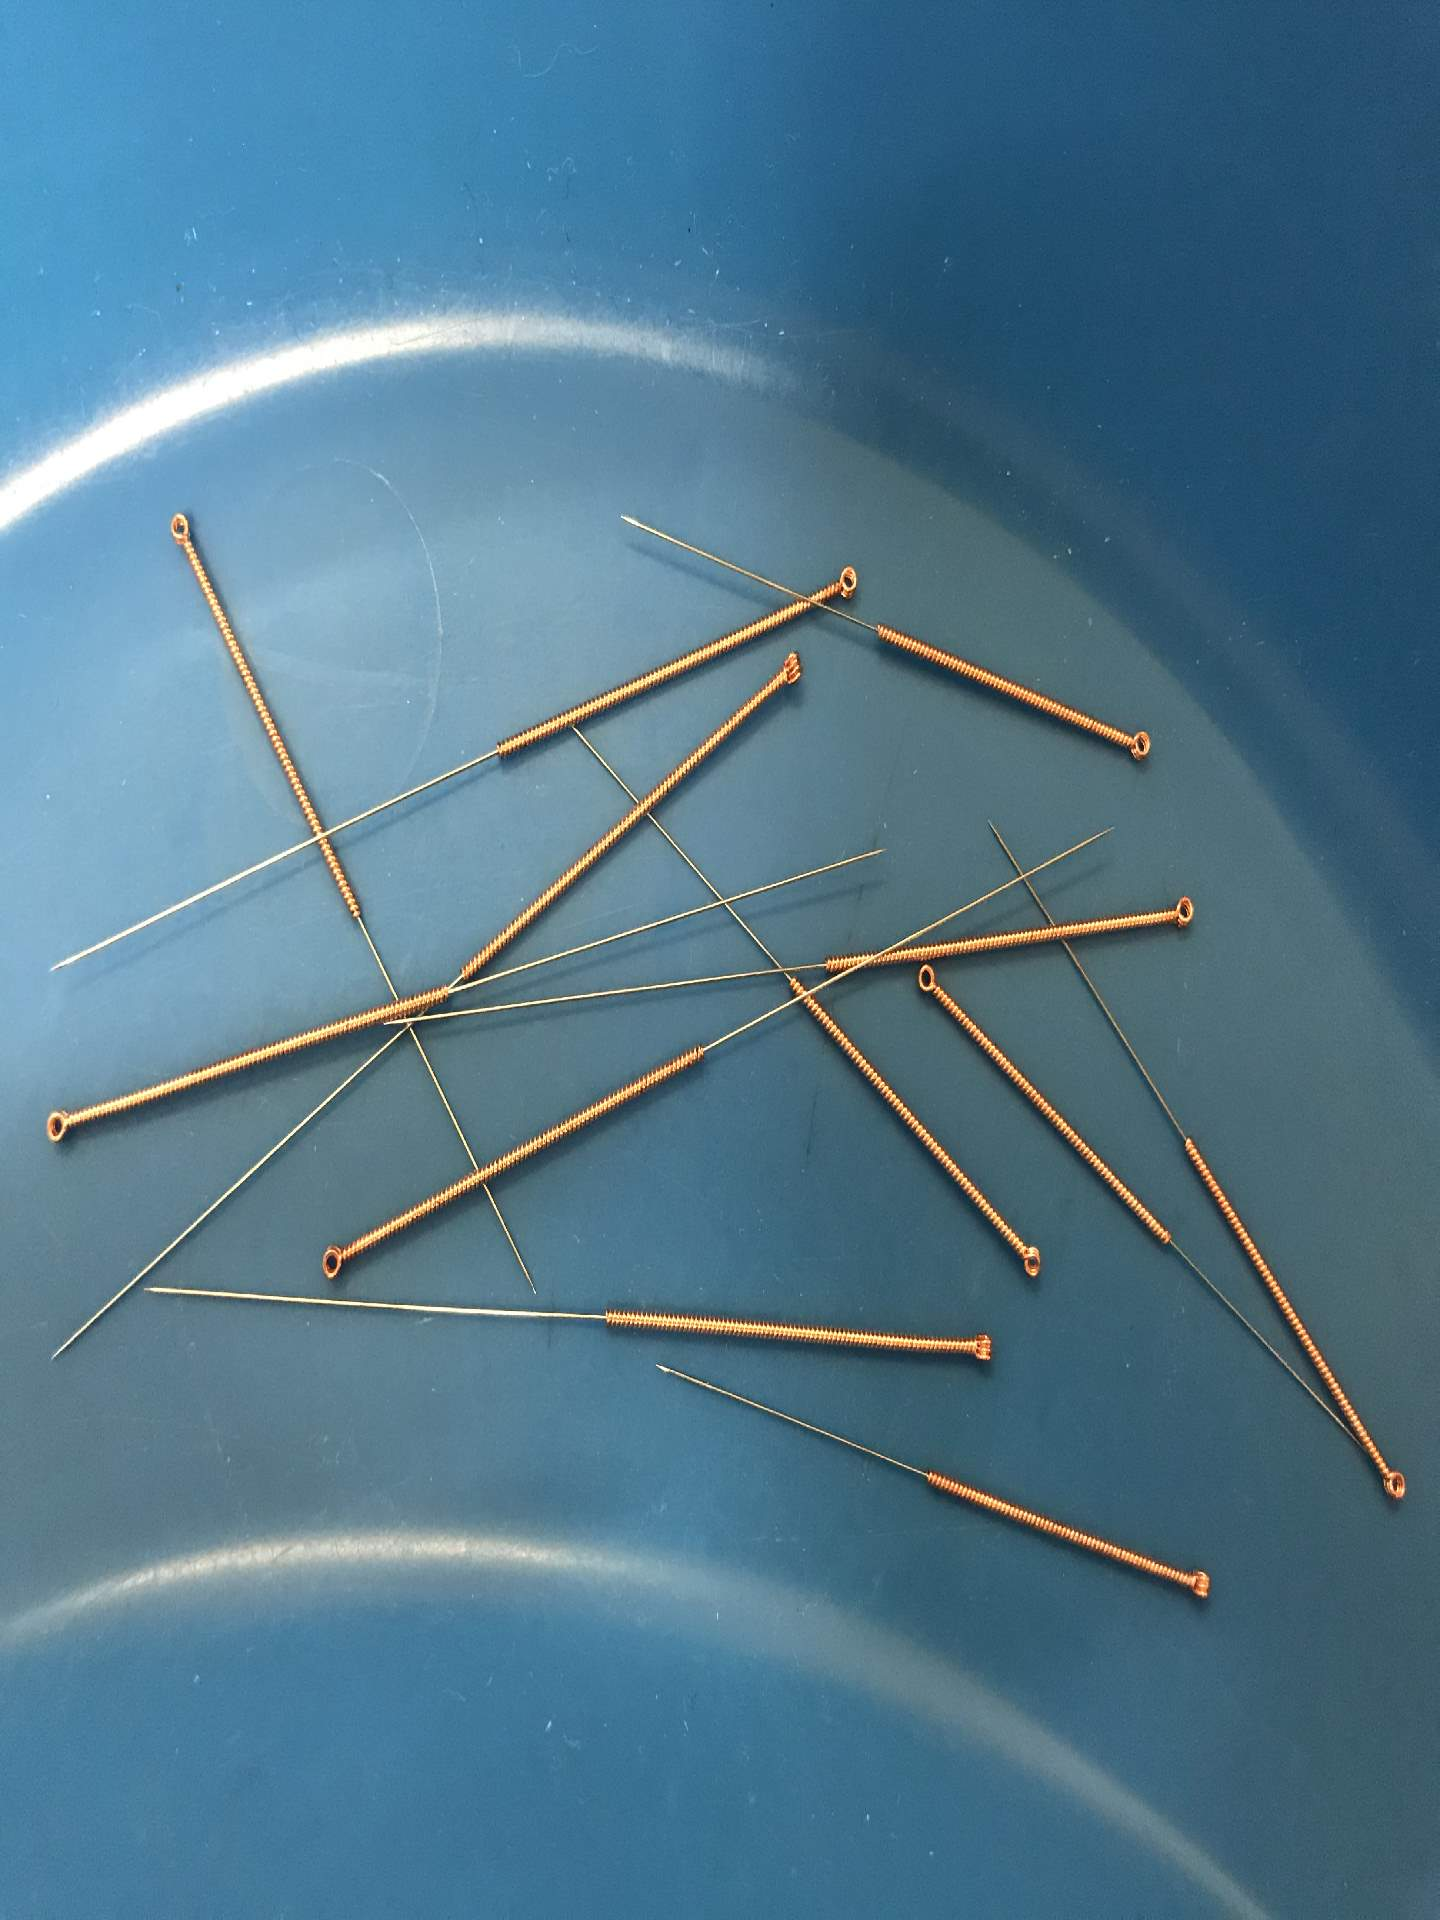needle: (29, 1098, 88, 1160), (1366, 1451, 1420, 1516), (304, 1231, 360, 1293), (1172, 1551, 1225, 1616), (814, 553, 870, 609), (762, 643, 815, 701), (1001, 1231, 1053, 1291), (1110, 714, 1162, 773), (954, 1318, 1004, 1379), (154, 500, 204, 558), (1153, 887, 1209, 937), (905, 954, 951, 1002)
